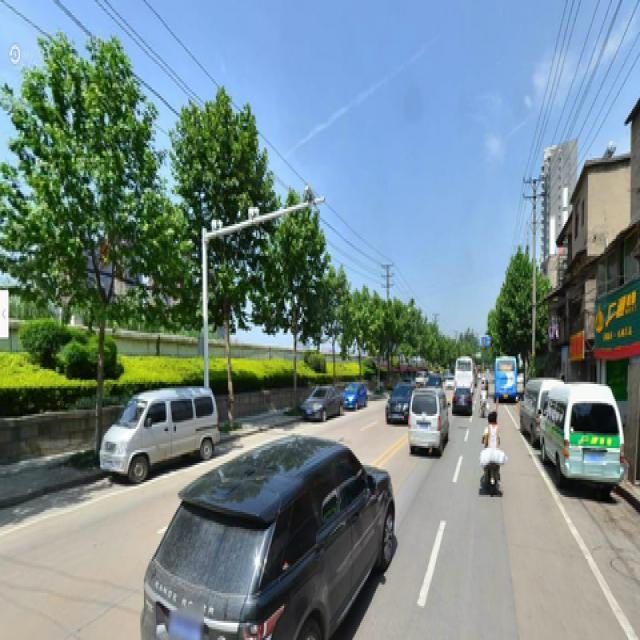meta: (33, 36, 135, 438), (180, 92, 259, 397), (283, 198, 313, 390)
